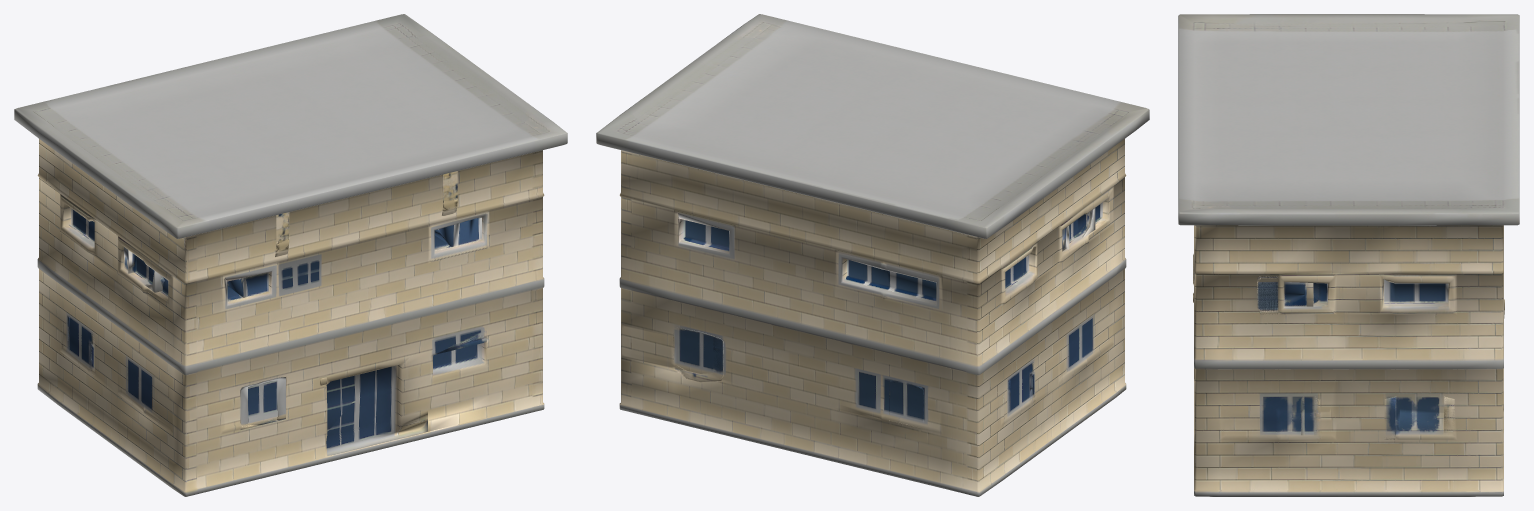
File: bld_556597973.glb
3 views of the same model, side by side, from view 1: azimuth 30°, elevation 25°; view 2: azimuth 150°, elevation 25°; view 3: azimuth 270°, elevation 25° (orthographic). The views are drawn at different scales.
Bounding box in the file's own units: 1.91 × 1.3 × 1.37.
Materials: 1 (1 with a texture image).
